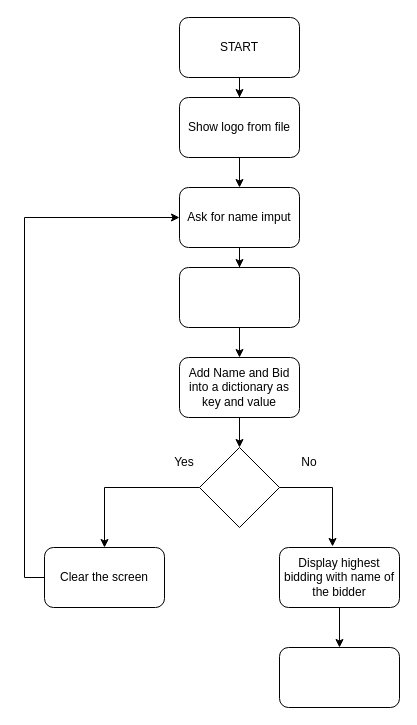
Image size: 417x725. Some labels were removed from this diagram. The box of each missing label's shape, as (x1, y1, x2, y2) in pixels:
Another bidder ?: (198, 446, 280, 528)
Ask for Bid Price: (178, 266, 300, 328)
END: (278, 646, 400, 708)
